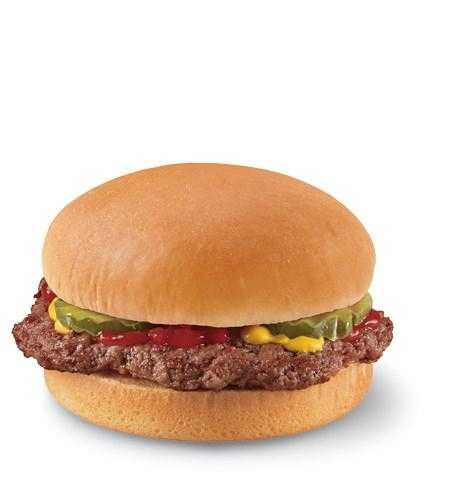hamburger: (23, 167, 398, 433)
